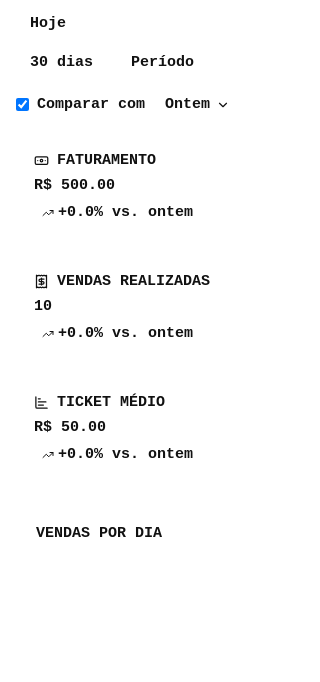
DesempenhoReport › período 'Período' (intervalo) exige as duas datas antes de buscar
Expected: the text "R$ 500.00" is shown, top-left (34, 177), bottom-right (115, 194)
Click the button "Período" at coordinates (162, 62), box top-left (115, 46), bottom-right (210, 79)
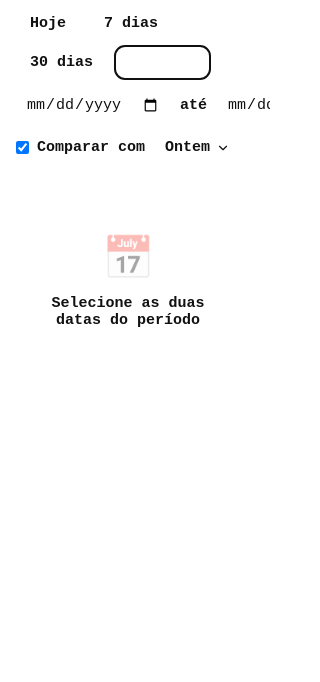
Expected: the text "Selecione as duas datas do período" is shown, top-left (46, 295), bottom-right (210, 329)
